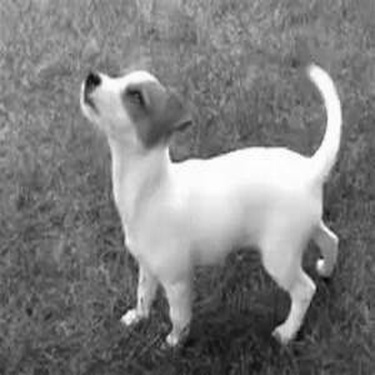dog: (57, 50, 353, 355)
